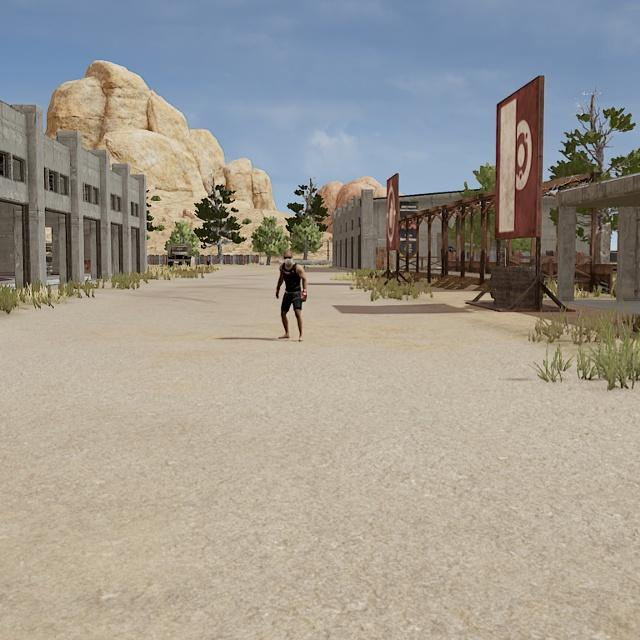head: (282, 249, 294, 267)
people: (275, 248, 308, 344)
